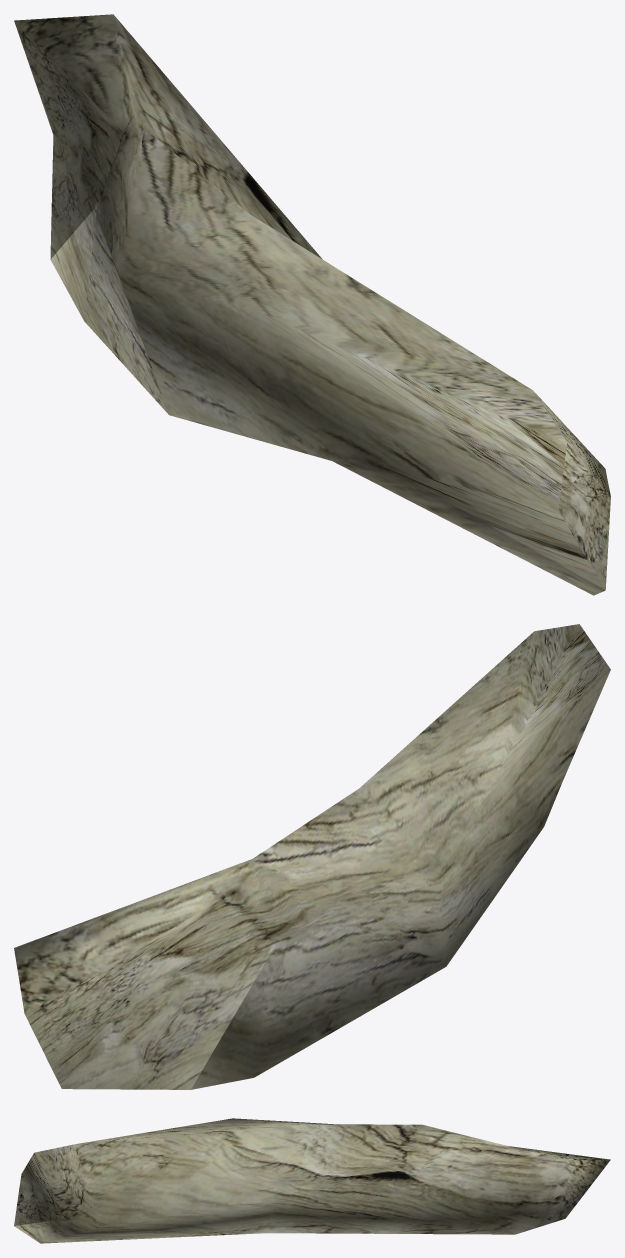
The model's file is shor_driftwood_massassi_sm_a1_l0.fbx.
3 views of the same model, one above another, from view 1: azimuth 30°, elevation 25°; view 2: azimuth 150°, elevation 25°; view 3: azimuth 270°, elevation 25° (orthographic). The views are drawn at different scales.
Parts seen in each view (by area): view 1: mesh_node; view 2: mesh_node; view 3: mesh_node.
Part boxes in pixels (left/top/right/bottom): mesh_node: left=14, top=14, right=610, bottom=595; mesh_node: left=14, top=624, right=610, bottom=1089; mesh_node: left=14, top=1118, right=610, bottom=1243.
Bounding box in the file's own units: 0.5537 × 0.4313 × 2.27.
